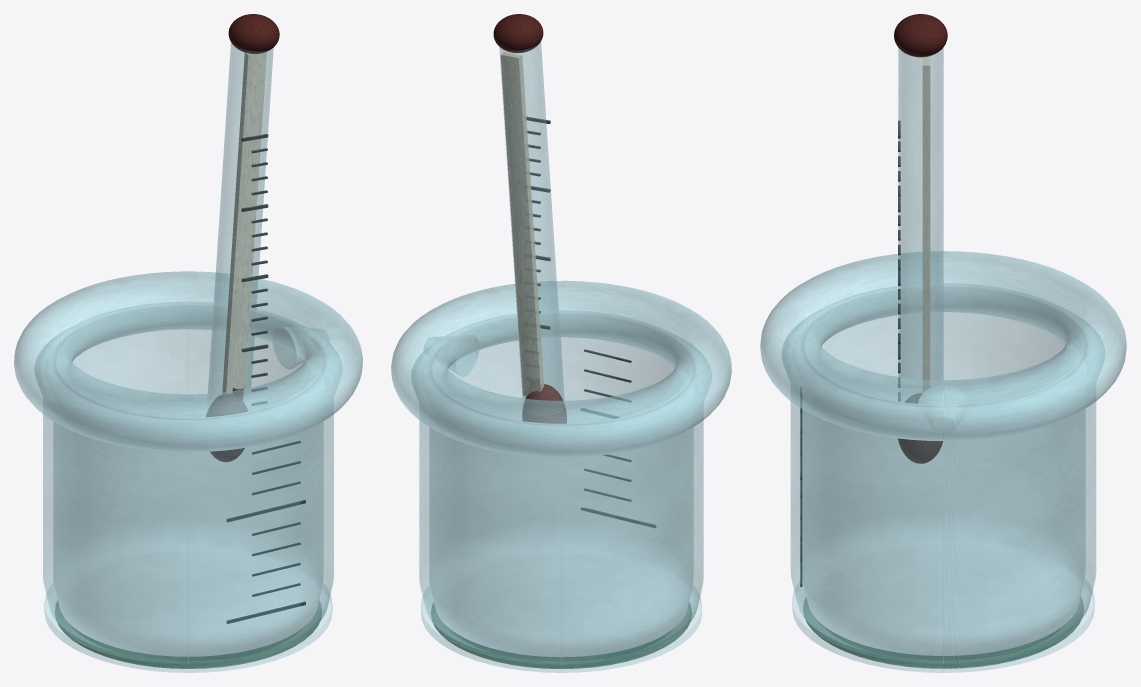
File: alat-13.glb
3 renders of one model, left to right at view 1: azimuth 30°, elevation 25°; view 2: azimuth 150°, elevation 25°; view 3: azimuth 270°, elevation 25°, orthographic. The views are drawn at different scales.
Visible parts, largest first — view 1: beaker-0, torus-2, thermometerPart-15, thermometerPart-16, cylinder-1, liquidSurface-14, thermometerPart-40, cone-3, liquid-13, thermometerBulb-17; view 2: beaker-0, torus-2, thermometerPart-15, thermometerPart-16, cylinder-1, liquidSurface-14, thermometerPart-40, cone-3, liquid-13, thermometerBulb-17; view 3: beaker-0, torus-2, thermometerPart-15, cylinder-1, liquidSurface-14, thermometerPart-16, thermometerPart-40, liquid-13, cone-3, thermometerBulb-17.
Boxes of the visible parts, left/top/right/bottom form: beaker-0: left=34, top=302, right=342, bottom=661; torus-2: left=14, top=271, right=362, bottom=452; thermometerPart-15: left=207, top=42, right=273, bottom=410; thermometerPart-16: left=222, top=52, right=266, bottom=400; cylinder-1: left=44, top=583, right=332, bottom=672; liquidSurface-14: left=56, top=602, right=320, bottom=668; thermometerPart-40: left=228, top=14, right=279, bottom=53; cone-3: left=272, top=326, right=329, bottom=369; liquid-13: left=55, top=601, right=321, bottom=667; thermometerBulb-17: left=206, top=394, right=247, bottom=462; beaker-0: left=411, top=310, right=711, bottom=661; torus-2: left=391, top=280, right=731, bottom=457; thermometerPart-15: left=499, top=42, right=564, bottom=404; thermometerPart-16: left=500, top=52, right=543, bottom=396; cylinder-1: left=421, top=585, right=701, bottom=672; liquidSurface-14: left=432, top=604, right=690, bottom=668; thermometerPart-40: left=493, top=14, right=543, bottom=53; cone-3: left=424, top=335, right=479, bottom=376; liquid-13: left=431, top=602, right=691, bottom=668; thermometerBulb-17: left=522, top=384, right=566, bottom=423; beaker-0: left=782, top=283, right=1104, bottom=661; torus-2: left=760, top=251, right=1126, bottom=441; thermometerPart-15: left=898, top=47, right=943, bottom=401; cylinder-1: left=792, top=579, right=1094, bottom=672; liquidSurface-14: left=804, top=598, right=1082, bottom=668; thermometerPart-16: left=922, top=56, right=930, bottom=392; thermometerPart-40: left=894, top=14, right=947, bottom=57; liquid-13: left=803, top=598, right=1083, bottom=667; cone-3: left=919, top=386, right=967, bottom=434; thermometerBulb-17: left=898, top=393, right=942, bottom=463.
Size of the model in its own units: 2.59 by 4.89 by 2.59.
Materials: 41 (41 with a texture image).
